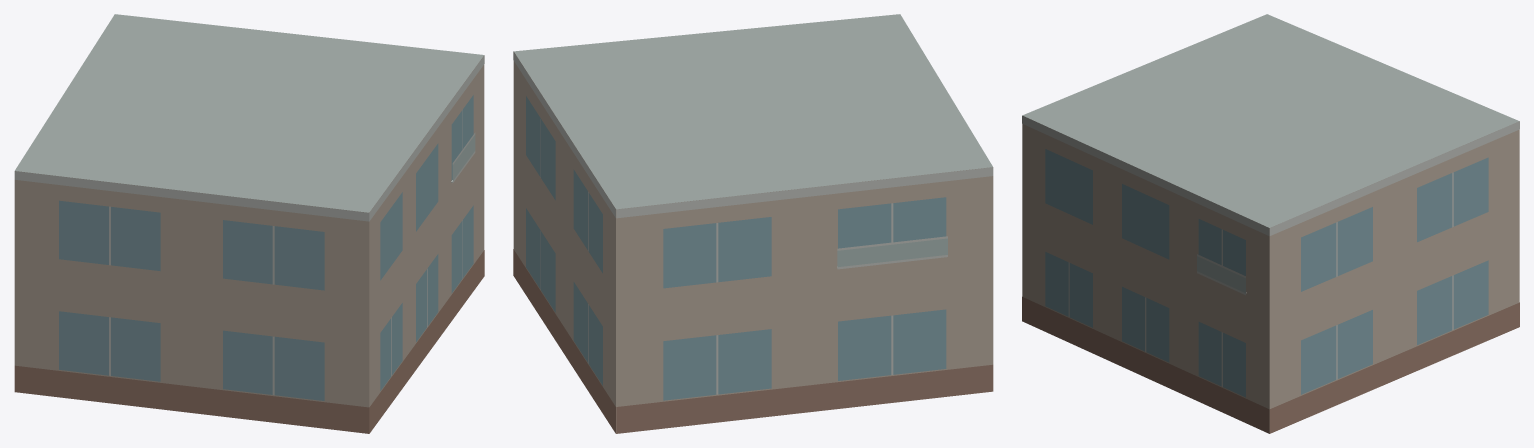
The model's file is survey-upis-32892737.glb.
The picture shows the model from 3 angles, left to right: view 1: azimuth 30°, elevation 25°; view 2: azimuth 150°, elevation 25°; view 3: azimuth 270°, elevation 25°; orthographic projection. The views are drawn at different scales.
Parts seen in each view (by area): view 1: survey-upis-32892737.tmp; view 2: survey-upis-32892737.tmp; view 3: survey-upis-32892737.tmp.
Boxes of the visible parts, left/top/right/bottom form: survey-upis-32892737.tmp: left=14, top=14, right=484, bottom=433; survey-upis-32892737.tmp: left=513, top=14, right=993, bottom=433; survey-upis-32892737.tmp: left=1022, top=14, right=1519, bottom=433.
Size of the model in its own units: 13.61 by 6.1 by 13.37.
